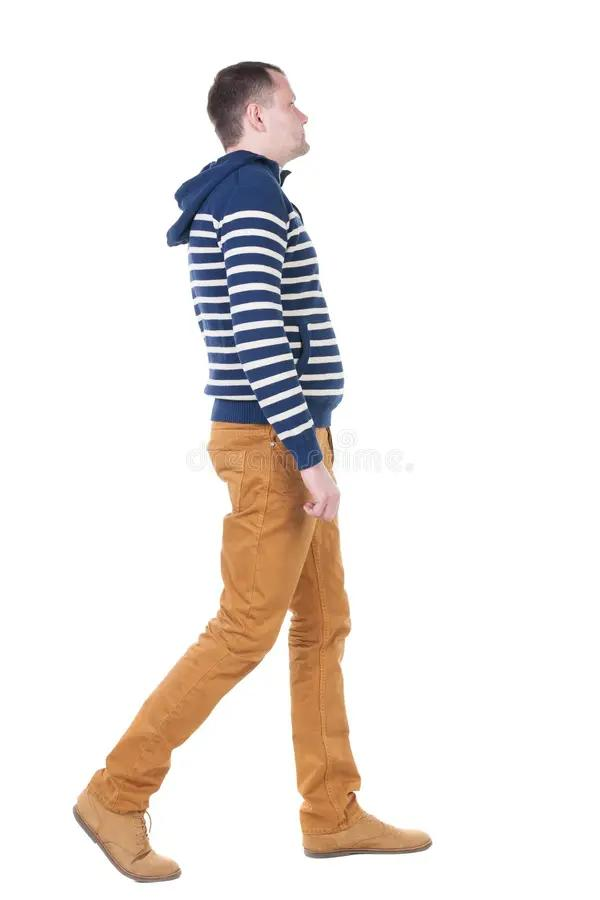sweater: (162, 148, 348, 470)
trousers: (87, 416, 373, 839)
